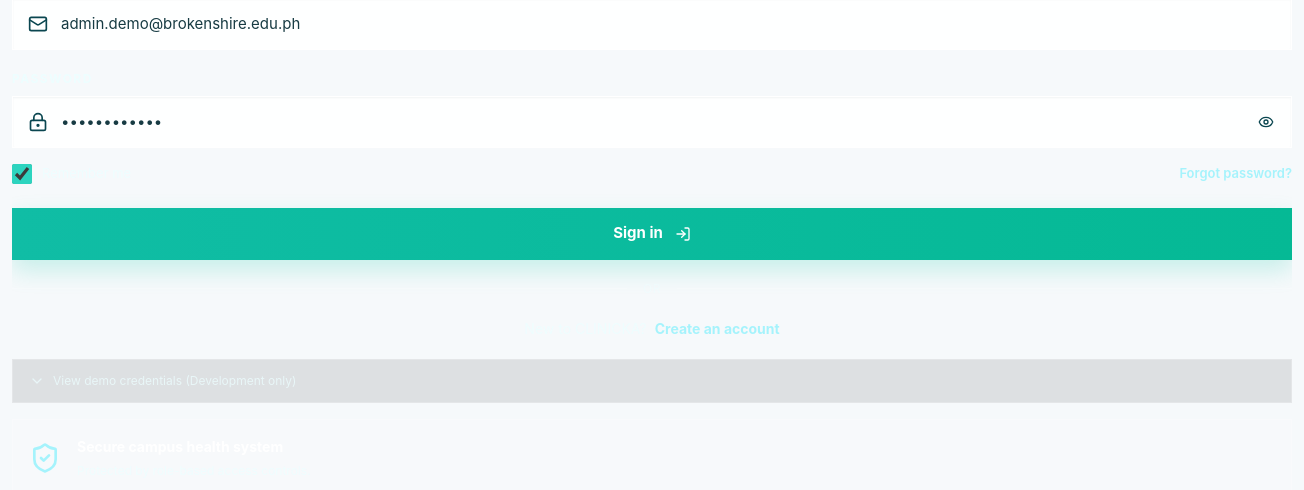
Scenario: LoginPage › toggles password visibility without changing the submitted field
Click the button named "Show password" at point(1266, 122), box [1248, 104, 1284, 140]
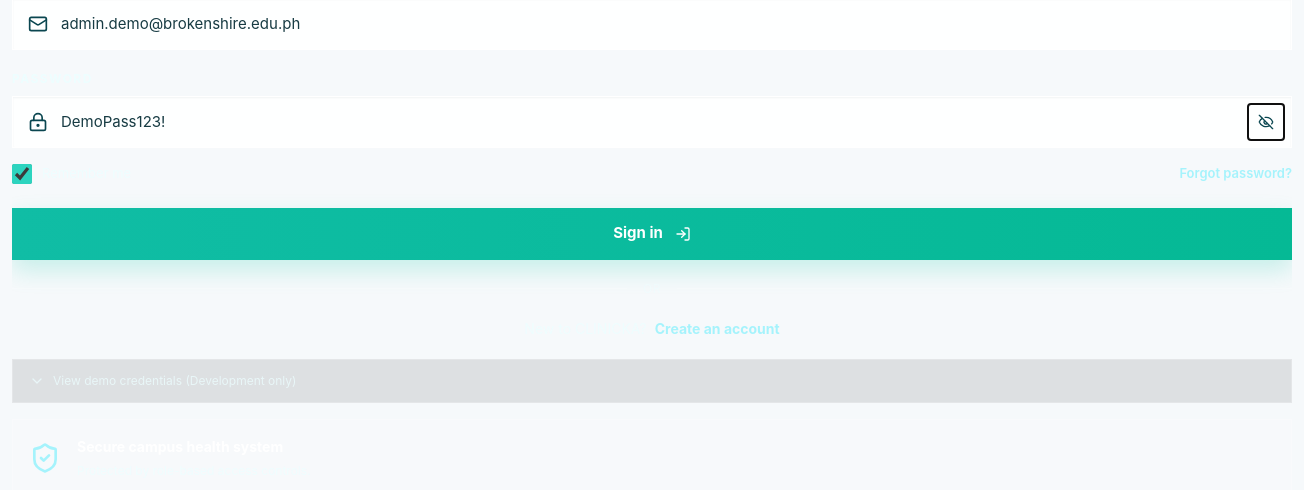
Check: the field labelled "Password" shows its text, box [12, 96, 1292, 148]
